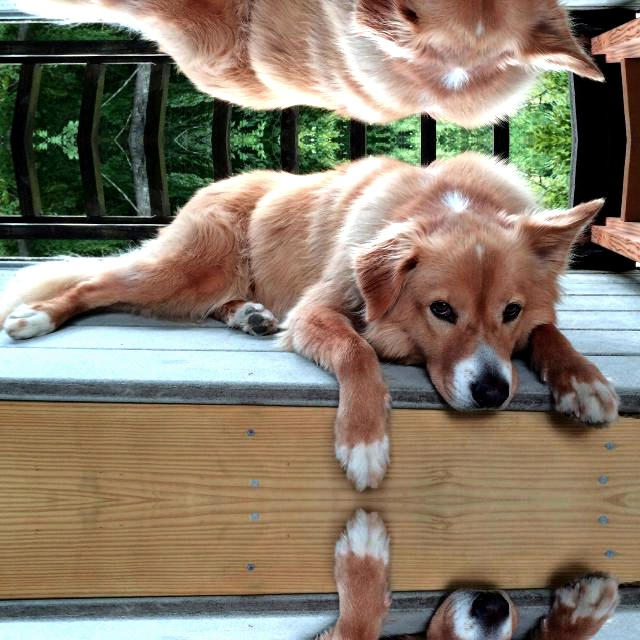dog: (29, 146, 625, 464), (29, 0, 625, 134), (29, 536, 625, 640)
